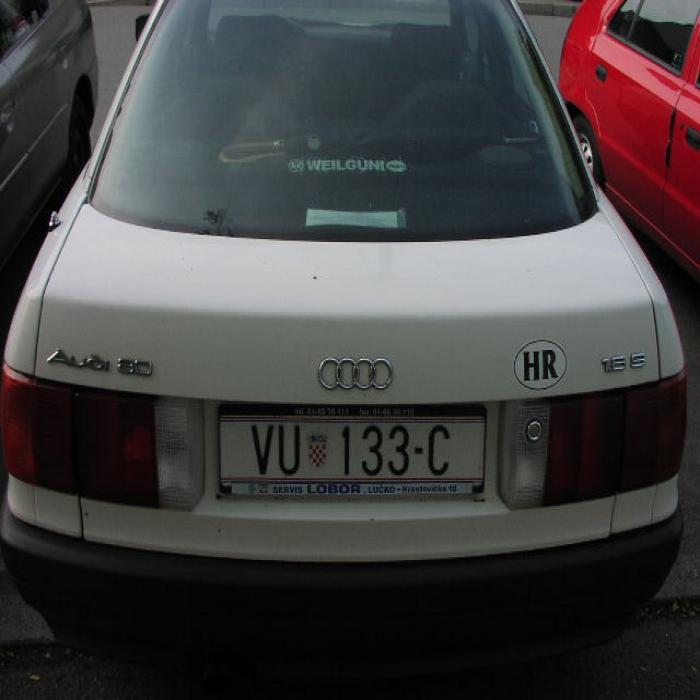number_plate: (220, 417, 481, 480)
